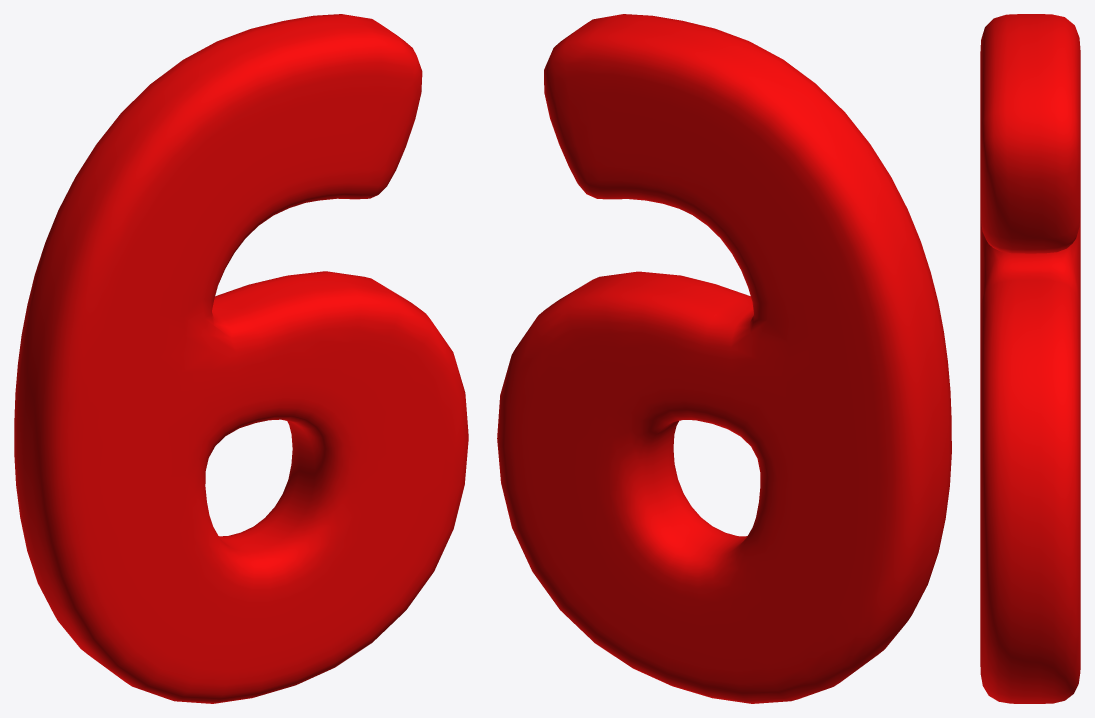
3 renders of one model, left to right at view 1: azimuth 30°, elevation 25°; view 2: azimuth 150°, elevation 25°; view 3: azimuth 270°, elevation 25°, orthographic.
Parts seen in each view (by area): view 1: 6; view 2: 6; view 3: 6.
Part boxes in pixels (left/top/right/bottom): 6: left=14, top=14, right=468, bottom=703; 6: left=497, top=14, right=951, bottom=703; 6: left=980, top=14, right=1080, bottom=703.
Bounding box in the file's own units: 99.85 × 144 × 20.
